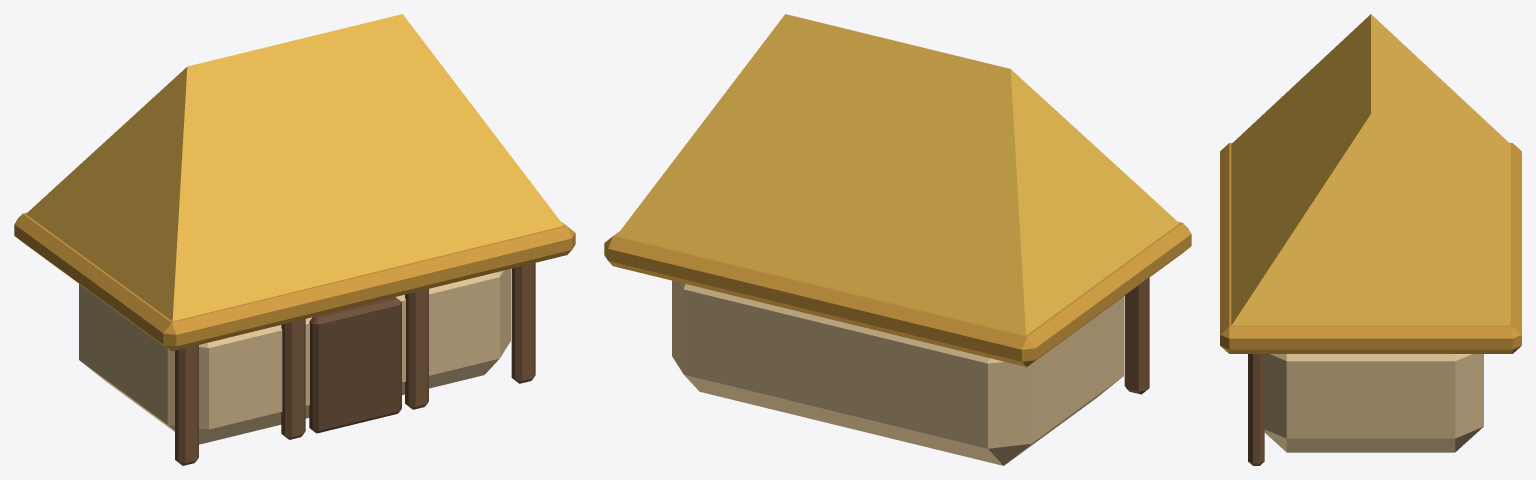
File: ns-thatch-barn.glb
3 renders of one model, left to right at view 1: azimuth 30°, elevation 25°; view 2: azimuth 150°, elevation 25°; view 3: azimuth 270°, elevation 25°, orthographic. The views are drawn at different scales.
Parts seen in each view (by area): view 1: Cube; view 2: Cube; view 3: Cube.
Part boxes in pixels (box(x1,y1,x2,y2)): Cube: box(14, 14, 575, 465); Cube: box(604, 14, 1191, 465); Cube: box(1220, 14, 1521, 465).
Size of the model in its own units: 0.6 by 0.47 by 0.4.
